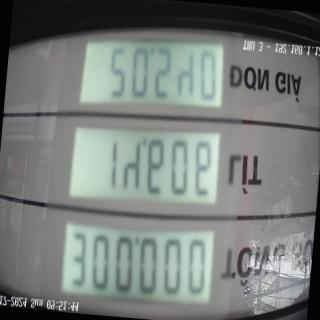screen: (50, 0, 242, 320)
